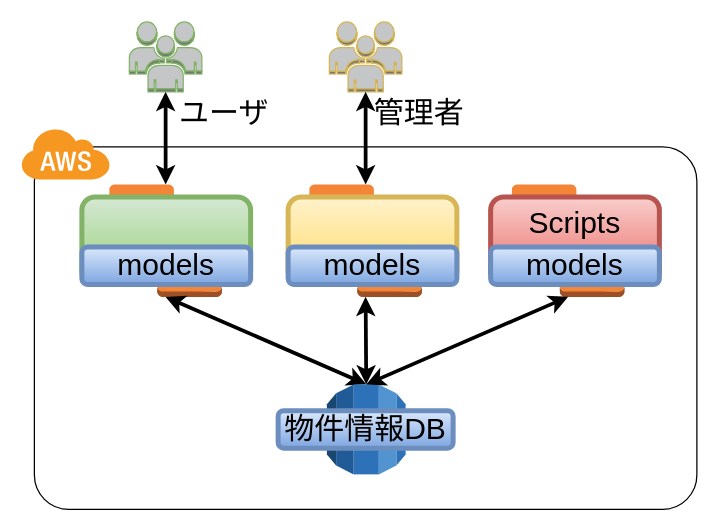
Some shapes in this 719 by 531 pixel diagram are drawn without their labels. The centre of each missing label's shape, as x and y in pixels:
Rails App 1: pixel 165 240
Rails App 2: pixel 372 240
